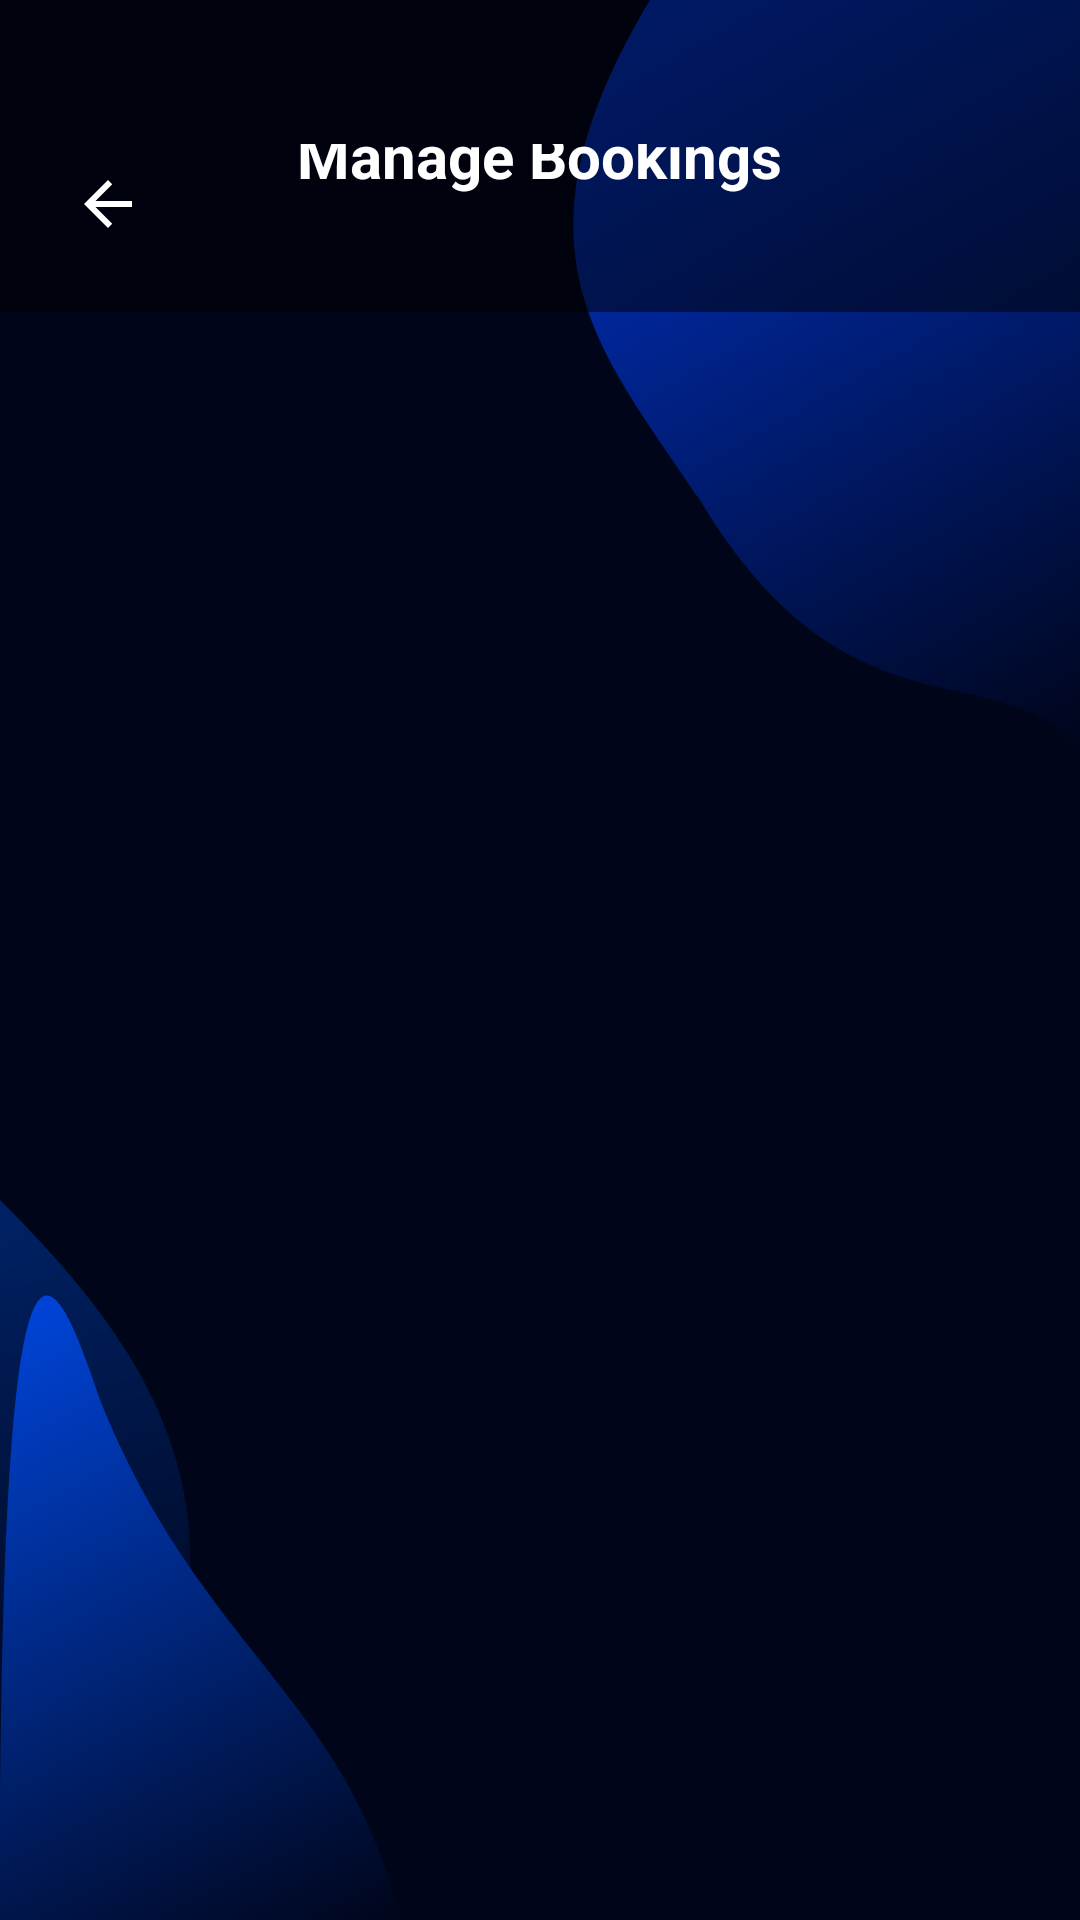

Named icons in this screenshot (1080w x 1920h) and their centers, [x,y]:
back: [108,204]
